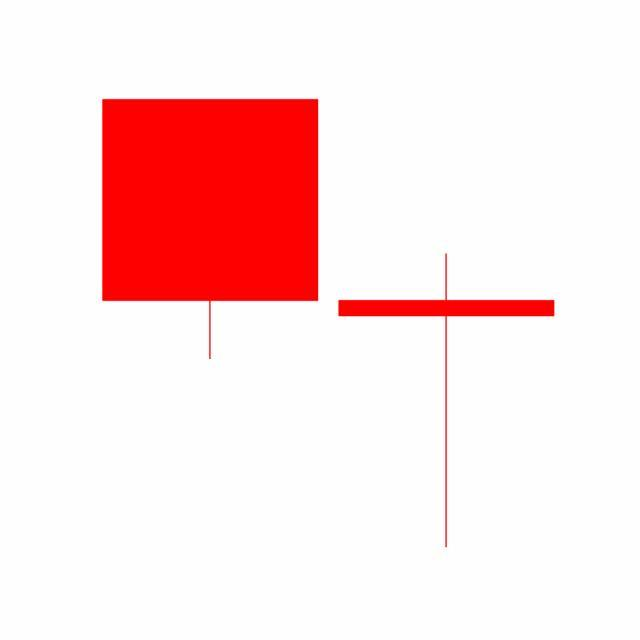Dragonfly Doji: (328, 250, 566, 551)
